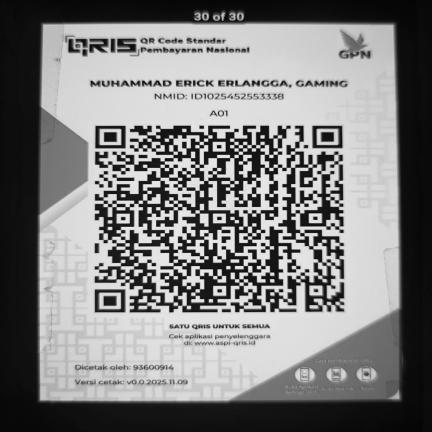Qris-Positioning: (40, 24, 399, 402)
